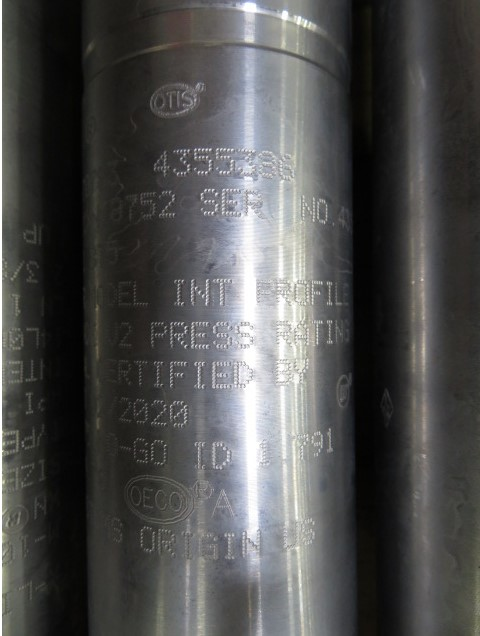character: (243, 184, 267, 223), (149, 144, 172, 181), (187, 277, 212, 309), (171, 144, 193, 180), (218, 186, 242, 219), (233, 317, 256, 351), (200, 531, 222, 564), (158, 187, 178, 223), (236, 146, 257, 180), (138, 189, 159, 223), (211, 275, 232, 309), (167, 319, 190, 350), (210, 359, 233, 390), (190, 321, 212, 353), (211, 440, 233, 472), (240, 528, 262, 560), (193, 146, 213, 181), (213, 143, 233, 178), (156, 527, 177, 560), (232, 361, 257, 388), (280, 520, 301, 552), (258, 146, 277, 181), (199, 186, 219, 219), (212, 321, 233, 352), (170, 400, 191, 431), (181, 527, 198, 565), (254, 273, 274, 305), (131, 357, 150, 390), (168, 359, 188, 390), (136, 524, 156, 555), (191, 438, 207, 476), (302, 516, 320, 549), (171, 276, 189, 308), (148, 320, 167, 350), (278, 149, 294, 184), (150, 438, 169, 467), (151, 399, 168, 431), (222, 531, 238, 565), (294, 431, 310, 464), (133, 400, 150, 431), (151, 360, 168, 390), (132, 437, 149, 466), (193, 359, 207, 392), (119, 397, 134, 427), (257, 438, 272, 468)
